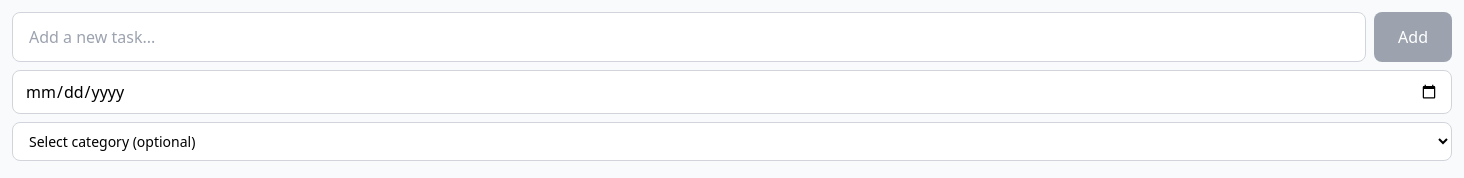
it: AddTaskInput › should_show_loading_state_during_submission
The image size is (1464, 178).
Type "New task" into the field with placeholder "Add a new task...".
click(689, 37); type("New task")  # box [12,12,1366,62]
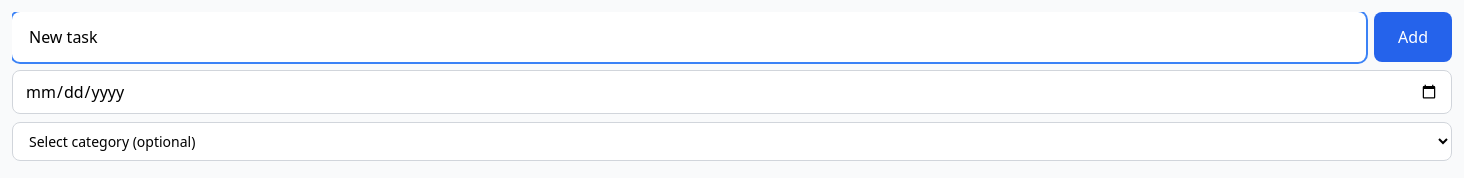
Click the button "Add".
click(1413, 37)  # box [1374,12,1452,62]
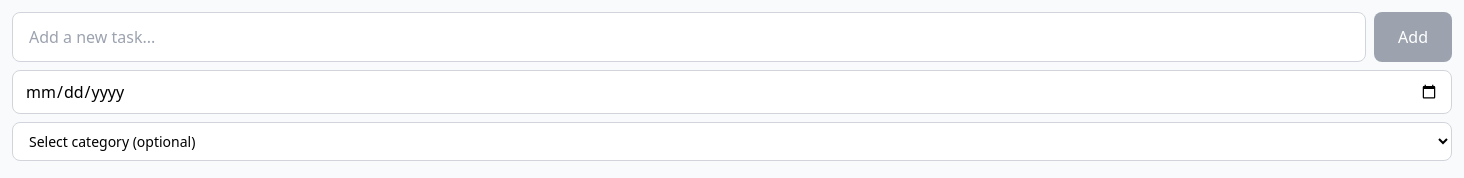
expect the button "Adding..." is disabled: met, box [1374,12,1452,62]
